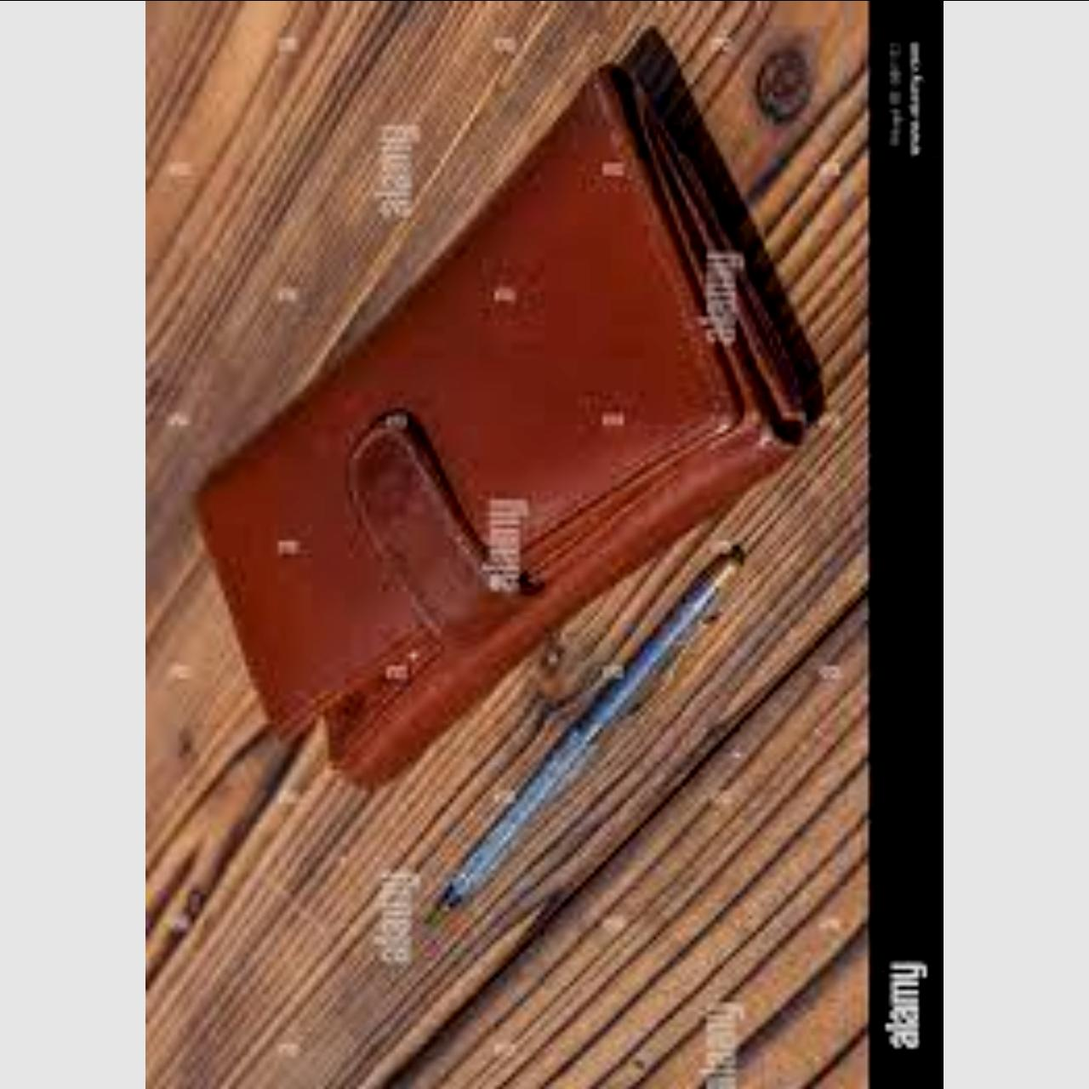wallet: (181, 21, 841, 806)
